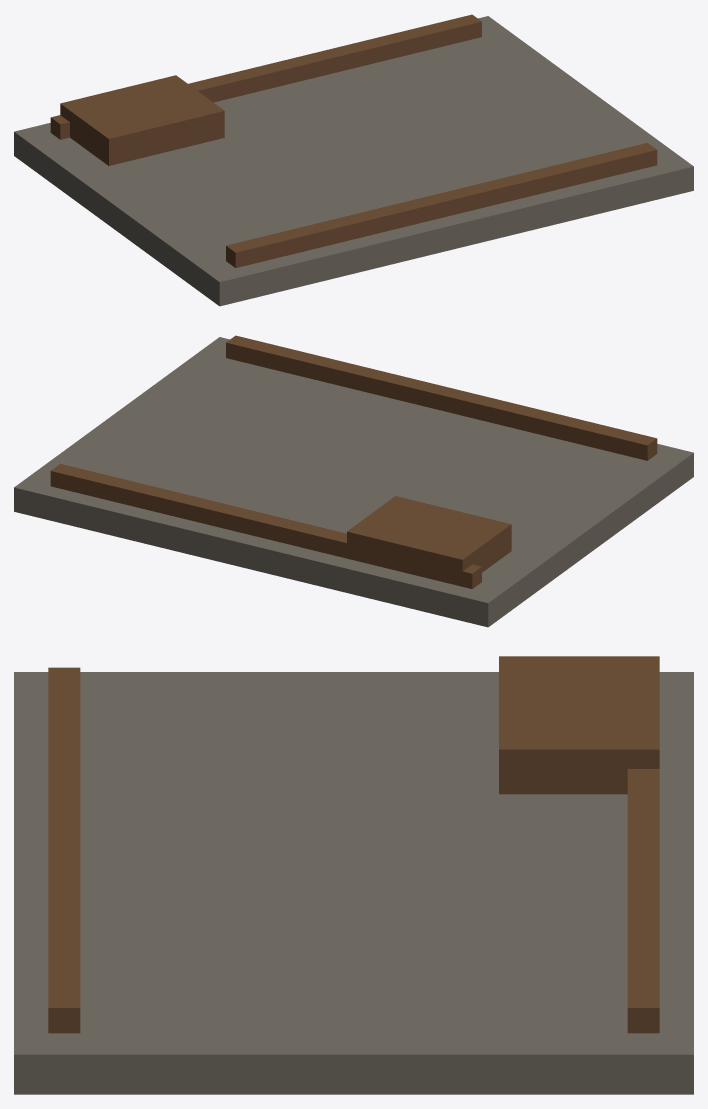
The model's file is fish-pond.source.glb.
The picture shows the model from 3 angles, top to bottom: view 1: azimuth 30°, elevation 25°; view 2: azimuth 150°, elevation 25°; view 3: azimuth 270°, elevation 25°; orthographic projection. The views are drawn at different scales.
Visible parts, largest first — view 1: fish-pond-shore-mesh, fish-pond-edge-1.44-mesh, fish-pond-feed-dock-mesh, fish-pond-edge--1.44-mesh; view 2: fish-pond-shore-mesh, fish-pond-edge-1.44-mesh, fish-pond-feed-dock-mesh, fish-pond-edge--1.44-mesh; view 3: fish-pond-shore-mesh, fish-pond-feed-dock-mesh, fish-pond-edge-1.44-mesh, fish-pond-edge--1.44-mesh.
Part boxes in pixels (left/top/right/bottom): fish-pond-shore-mesh: left=14, top=16, right=693, bottom=306; fish-pond-edge-1.44-mesh: left=226, top=143, right=657, bottom=267; fish-pond-feed-dock-mesh: left=60, top=75, right=224, bottom=165; fish-pond-edge--1.44-mesh: left=50, top=14, right=481, bottom=139; fish-pond-shore-mesh: left=14, top=337, right=693, bottom=627; fish-pond-edge-1.44-mesh: left=226, top=335, right=657, bottom=460; fish-pond-feed-dock-mesh: left=347, top=496, right=511, bottom=586; fish-pond-edge--1.44-mesh: left=50, top=464, right=481, bottom=588; fish-pond-shore-mesh: left=14, top=672, right=693, bottom=1094; fish-pond-feed-dock-mesh: left=499, top=656, right=659, bottom=794; fish-pond-edge-1.44-mesh: left=48, top=667, right=80, bottom=1033; fish-pond-edge--1.44-mesh: left=627, top=769, right=659, bottom=1033.
Bounding box in the file's own units: 4.5 × 0.465 × 3.38.
